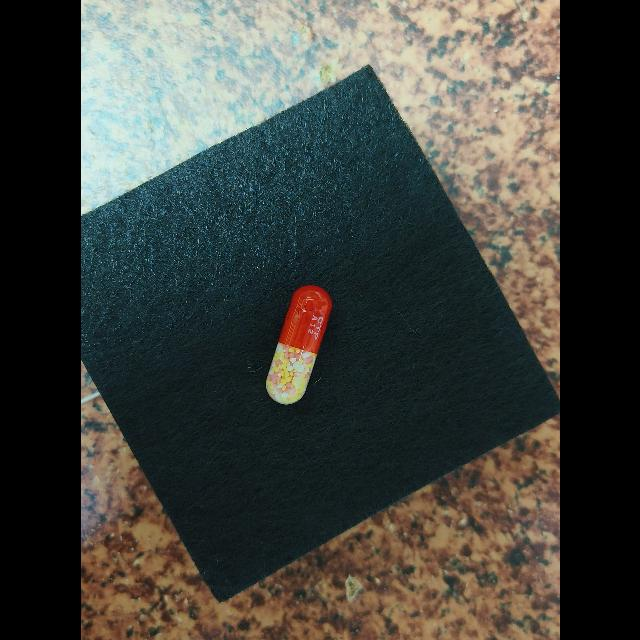Intact Capsule: (265, 285, 332, 405)
